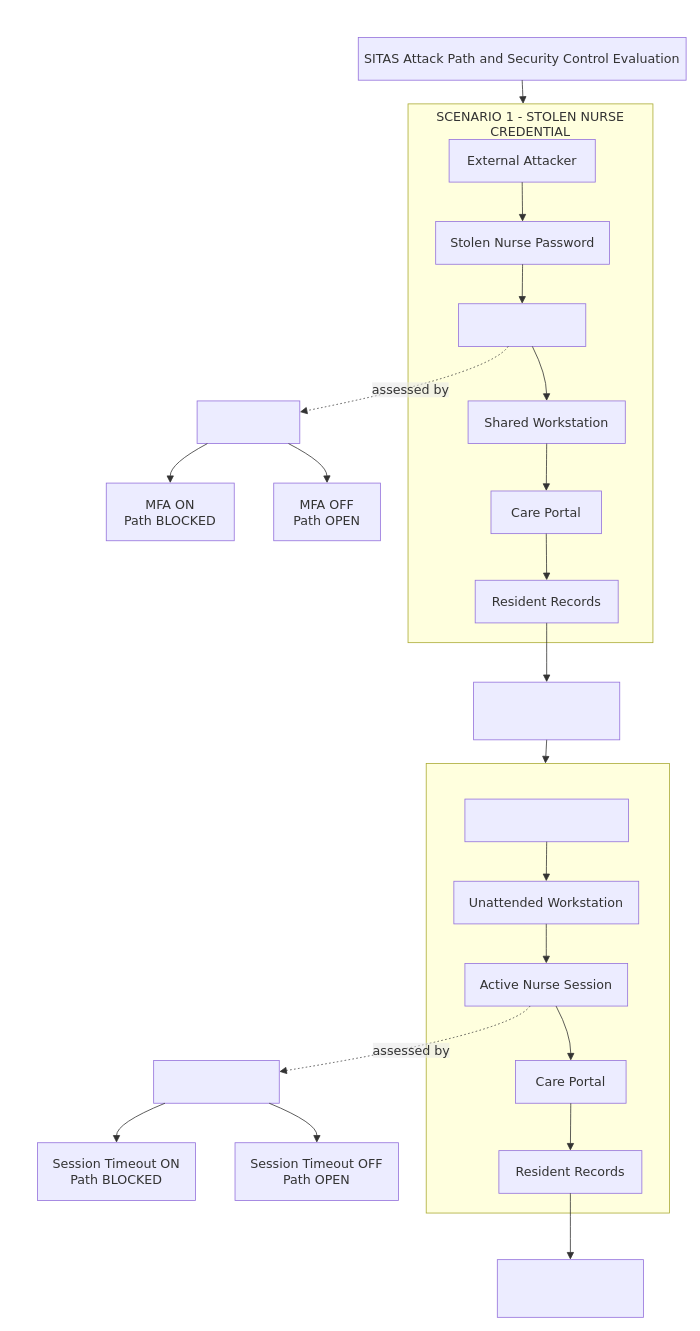
This 700x1331 diagram has some shape labels left out. The shapes that lost their labels are listed below. From the top down, each one's box as (x1, y1, x2, y2) in pixels, then its label:
(458, 303, 586, 346): Nurse Identity
(196, 400, 300, 444): CTRL-MFA
(473, 681, 620, 740): Risk Score: 20/25 Critical
(464, 798, 628, 842): Unauthorised Person
(425, 763, 670, 1213): SCENARIO 2 - SHARED WORKSTATION SESSION MISUSE
(153, 1060, 279, 1103): CTRL-SESSION
(497, 1259, 643, 1317): Risk Score: 15/25 High
